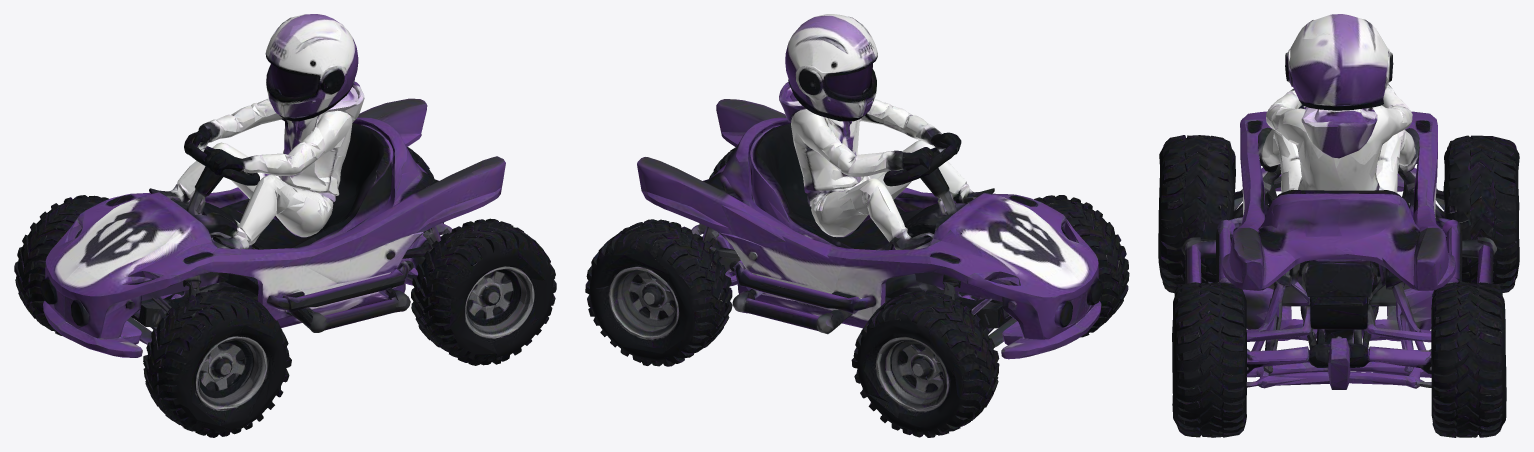
The model's file is purpleKart.2ae51dd4.glb.
3 renders of one model, left to right at view 1: azimuth 30°, elevation 25°; view 2: azimuth 150°, elevation 25°; view 3: azimuth 270°, elevation 25°, orthographic. The views are drawn at different scales.
Parts seen in each view (by area): view 1: chassis_body, wheel_rr, wheel_fr, wheel_rl; view 2: chassis_body, wheel_rl, wheel_fl, wheel_rr; view 3: chassis_body, wheel_rr, wheel_rl.
Part boxes in pixels (box(x1,y1,x2,y2)): chassis_body: box(14, 14, 556, 424); wheel_rr: box(157, 291, 291, 437); wheel_fr: box(370, 229, 515, 365); wheel_rl: box(26, 195, 133, 335); chassis_body: box(585, 14, 1129, 423); wheel_rl: box(851, 292, 986, 437); wheel_fl: box(628, 220, 763, 366); wheel_rr: box(1034, 197, 1116, 337); chassis_body: box(1162, 14, 1516, 437); wheel_rr: box(1158, 136, 1243, 293); wheel_rl: box(1435, 137, 1519, 292).
Size of the model in its own units: 1.9 by 1.37 by 1.27.
Materials: 1 (1 with a texture image).
